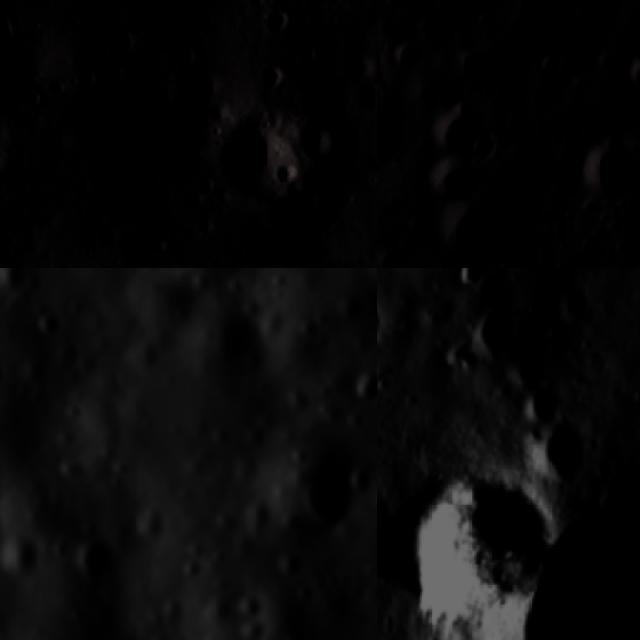crater: (377, 434, 572, 634), (500, 449, 640, 640), (198, 113, 309, 216), (274, 433, 373, 545), (451, 290, 529, 377), (524, 410, 603, 490), (566, 138, 638, 205), (284, 114, 354, 180), (0, 26, 57, 106), (446, 199, 503, 262), (511, 377, 568, 435), (62, 535, 120, 590), (219, 237, 317, 268), (0, 527, 48, 587), (425, 109, 487, 151), (89, 58, 140, 109), (423, 163, 489, 198), (377, 99, 407, 174), (283, 29, 327, 75), (270, 545, 311, 589), (345, 360, 377, 415), (258, 1, 296, 46), (346, 75, 377, 128), (0, 112, 20, 194), (339, 460, 377, 503), (102, 22, 138, 65), (253, 60, 291, 100), (232, 588, 270, 626), (377, 287, 394, 362), (31, 310, 65, 346), (389, 38, 424, 71), (232, 614, 274, 640), (624, 44, 640, 110), (0, 268, 32, 301), (530, 241, 561, 268), (461, 52, 494, 77), (377, 243, 406, 268), (472, 136, 501, 159), (435, 24, 457, 44), (625, 186, 640, 213), (383, 0, 408, 9)
